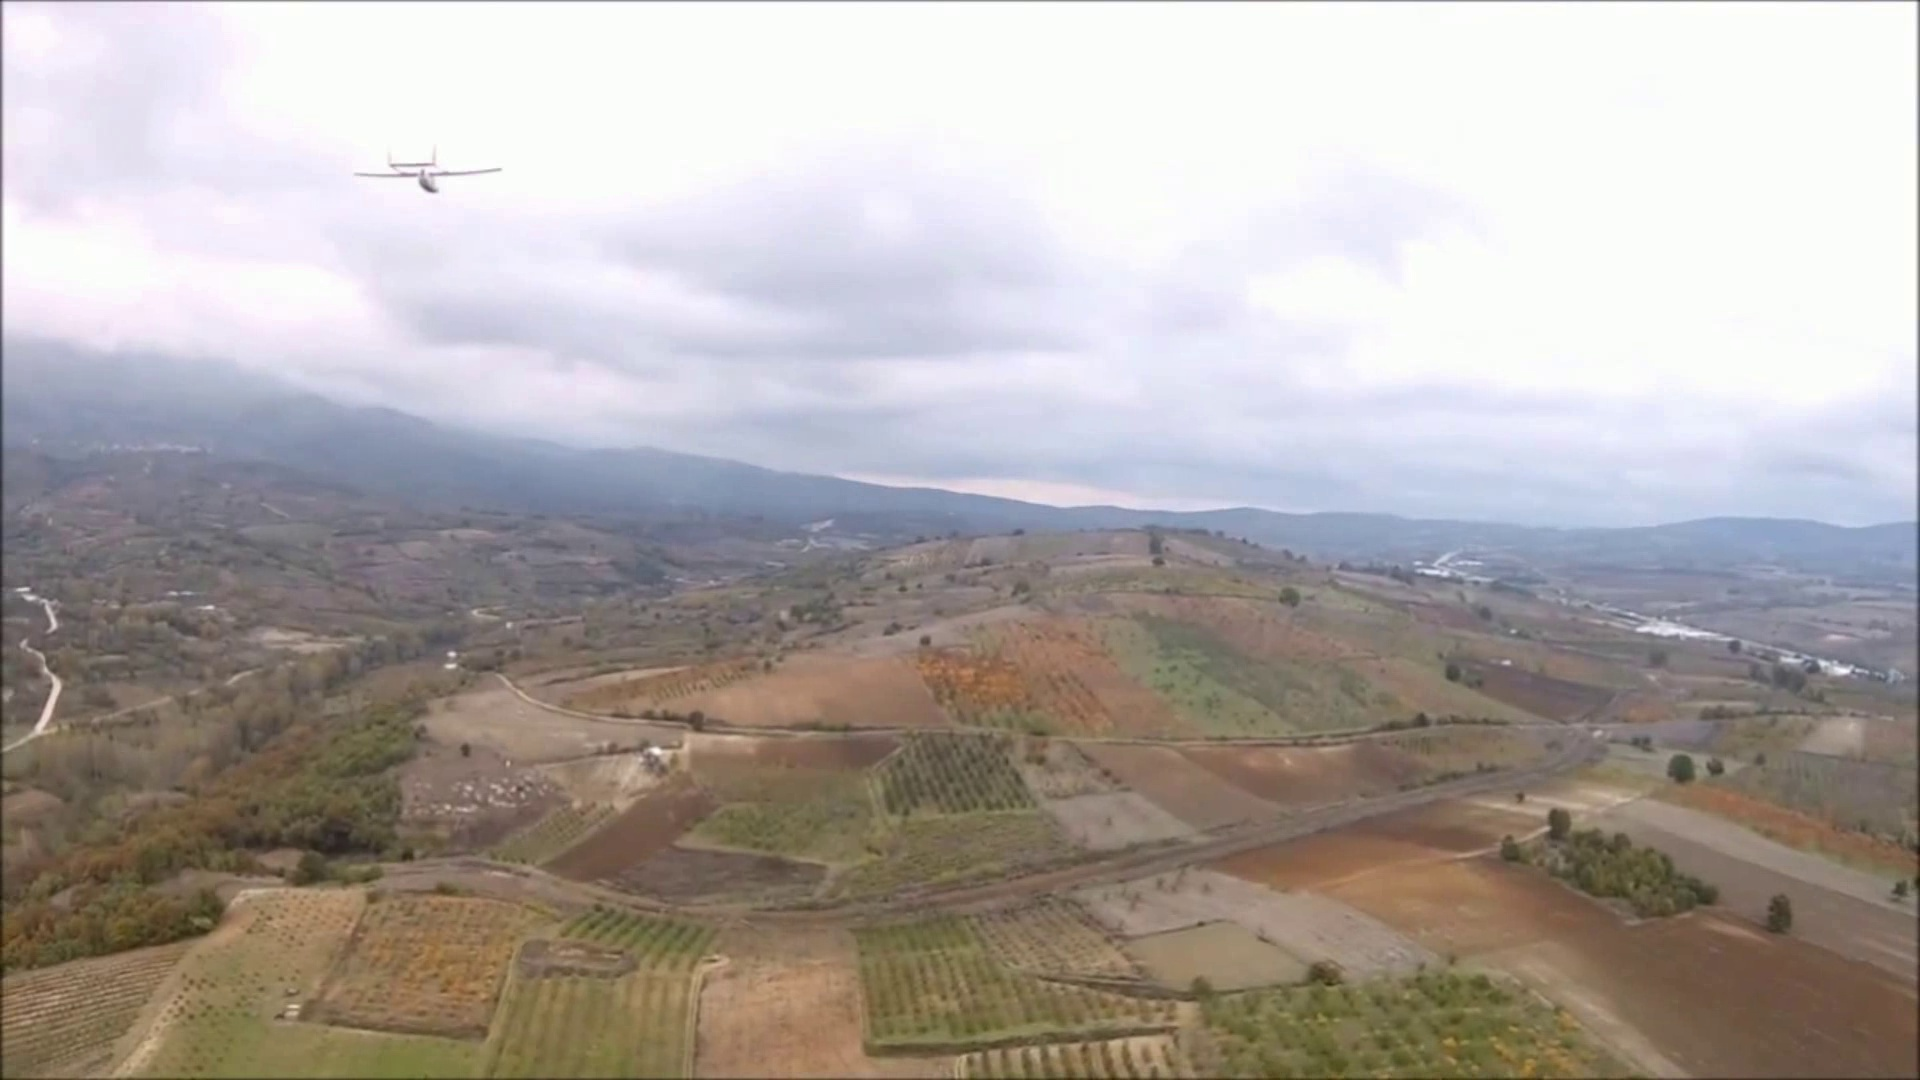airplane: (351, 144, 504, 194)
